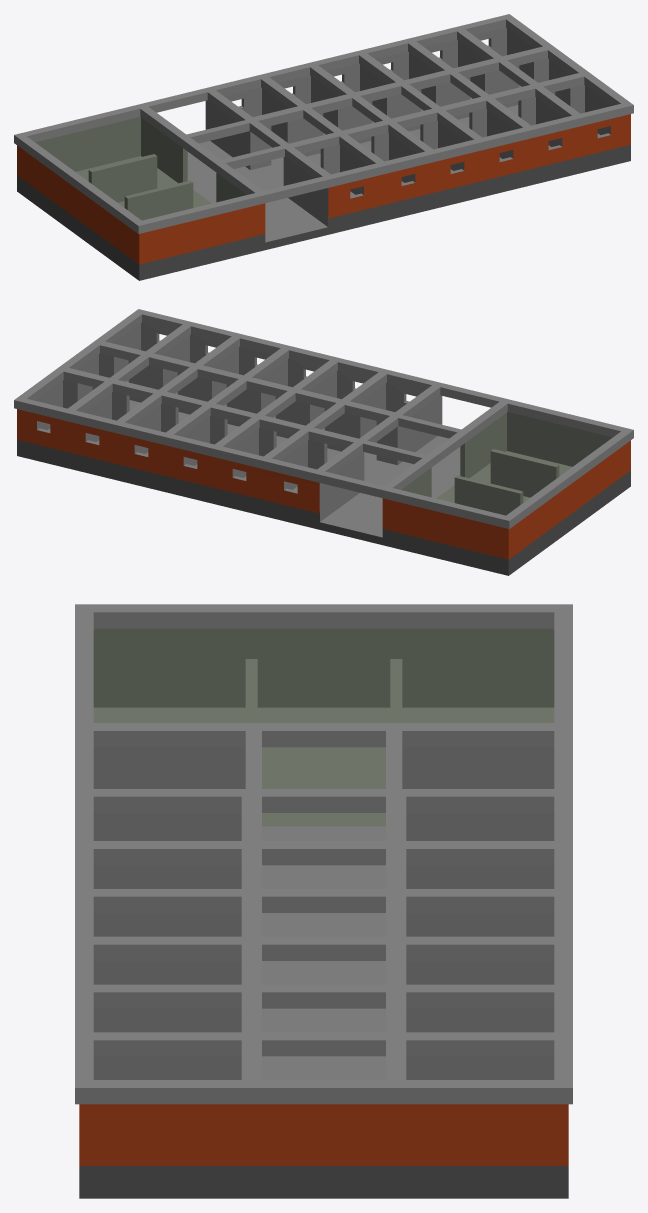
File: Building_01.fbx
3 views of the same model, one above another, from view 1: azimuth 30°, elevation 25°; view 2: azimuth 150°, elevation 25°; view 3: azimuth 270°, elevation 25° (orthographic). The views are drawn at different scales.
Parts seen in each view (by area): view 1: Symétrie_1; view 2: Symétrie_1; view 3: Symétrie_1.
Boxes of the visible parts, <box> form: Symétrie_1: <box>14,14,633,280</box>; Symétrie_1: <box>14,309,633,575</box>; Symétrie_1: <box>75,604,572,1198</box>.
Bounding box in the file's own units: 2820 × 305 × 1227.
Materials: 1 (1 with a texture image).
